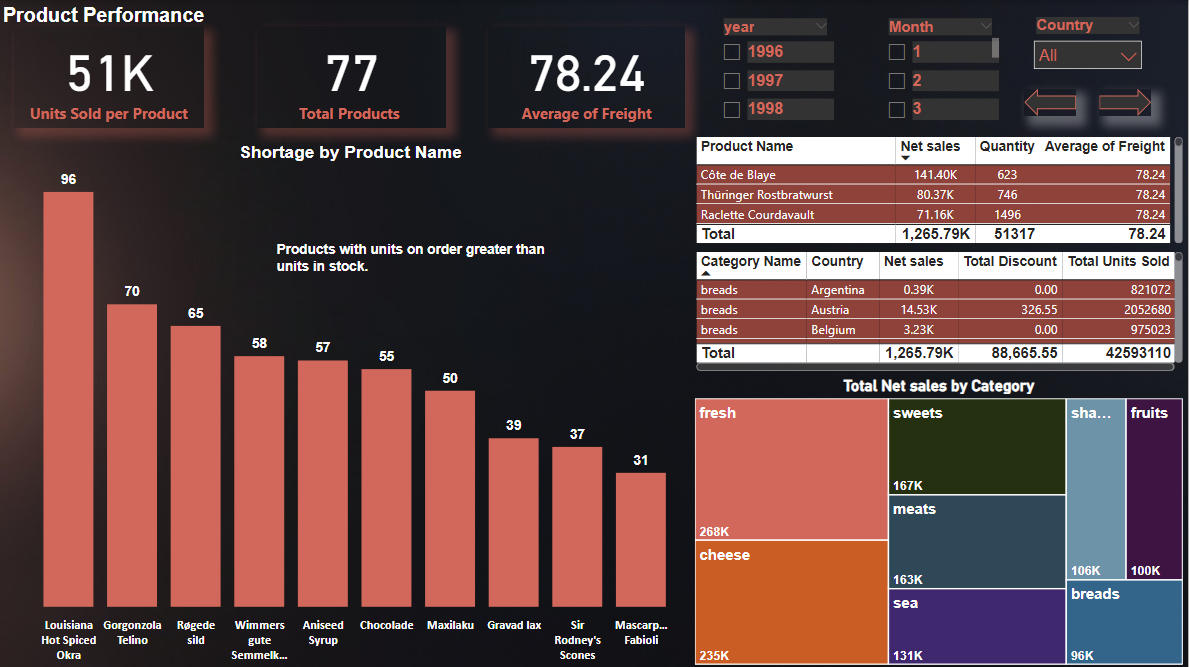

The page's visual inventory and layout, read from the dashboard file:
{"tool":"powerbi","page":{"name":"Product","canvas":[1280,720],"ordinal":2},"visuals":[{"type":"card","fields":{"Values":["Product.Total Products Count"]},"box":[278,28.5,203.8,109.8],"z":0},{"type":"treemap","title":"Total Net sales by Category","fields":{"Group":["Categories.CategoryName"],"Values":["Sum(OrdersDetails.Net sales revneu)"]},"box":[745.5,404.8,534.5,315],"z":1000},{"type":"tableEx","fields":{"Values":["Product.ProductName","Sum(OrdersDetails.Net sales revneu)","Sum(OrdersDetails.Quantity)","Avg(Orders.Freight)"]},"box":[745.4,142.4,534.6,124.2],"z":2000},{"type":"columnChart","title":"Shortage by Product Name","fields":{"Category":["Product.ProductName"],"Y":["Sum(Product.Shortage)"]},"box":[7,153.5,745.4,566.7],"z":3000},{"type":"textbox","box":[0,0,236.6,37.1],"z":4000},{"type":"card","fields":{"Values":["OrdersDetails.Units Sold per Product"]},"box":[17.1,28.5,203.8,109.8],"z":5000},{"type":"card","fields":{"Values":["Avg(Orders.Freight)"]},"box":[527.4,28.5,212.4,109.8],"z":6000},{"type":"tableEx","fields":{"Values":["Categories.CategoryName","Customers.Country","Sum(OrdersDetails.Net sales revneu)","Sum(OrdersDetails.Discount value)","Sum(Orders.Units Sold Over Time)"]},"box":[745.4,266.6,534.6,138.2],"z":7000},{"type":"slicer","fields":{"Values":["Calender.year"]},"box":[767.7,15.4,136.8,127],"z":8000},{"type":"slicer","fields":{"Values":["Calender.Month"]},"box":[945,15.4,136.8,122.8],"z":9000},{"type":"slicer","fields":{"Values":["Customers.Country"]},"box":[1104.1,14,136.8,65.6],"z":10000},{"type":"shape","box":[1185.1,94.9,55.8,29.3],"z":11000},{"type":"shape","box":[1104.1,94.9,55.8,29.3],"z":12000},{"type":"textbox","box":[294.5,254,300.1,67],"z":13000}]}

Visuals, with their boxes in screenshot pixels (x1, y1, x2, y2), scaled from the page's 1280x720 canvas onto the 1189x667 screenshot:
card - Product.Total Products Count: 258, 26, 448, 128
"Total Net sales by Category" treemap: 692, 375, 1188, 666
tableEx - Product.ProductName x Sum(OrdersDetails.Net sales revneu): 692, 132, 1188, 247
"Shortage by Product Name" columnChart: 7, 142, 699, 666
textbox: 0, 0, 220, 34
card - OrdersDetails.Units Sold per Product: 16, 26, 205, 128
card - Avg(Orders.Freight): 490, 26, 687, 128
tableEx - Categories.CategoryName x Customers.Country: 692, 247, 1188, 375
slicer - Calender.year: 713, 14, 840, 132
slicer - Calender.Month: 878, 14, 1005, 128
slicer - Customers.Country: 1026, 13, 1153, 74
shape: 1101, 88, 1153, 115
shape: 1026, 88, 1077, 115
textbox: 274, 235, 552, 297
